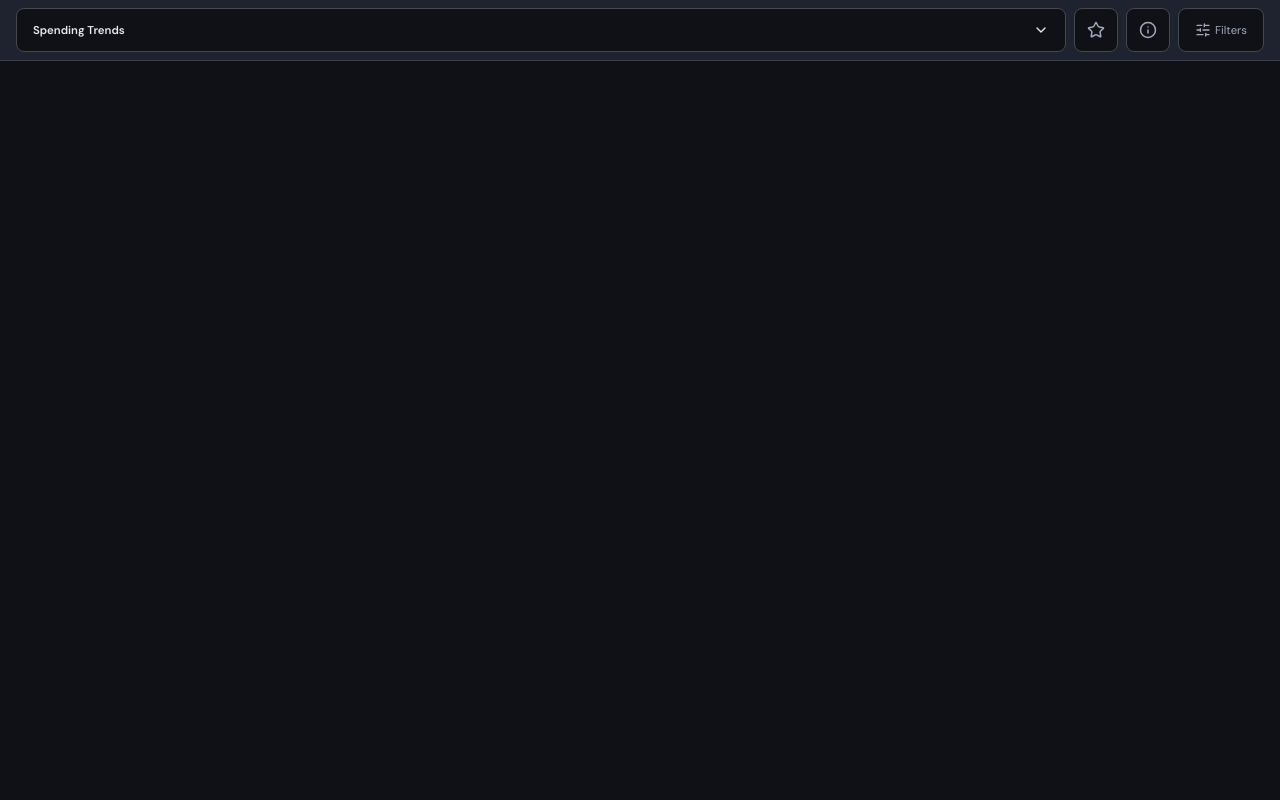
Scenario: ReportsMobileChrome › opens the reports overview beside the star, and picks a report from it
The image size is (1280, 800).
Click the button named "About these reports". click: {"x": 1148, "y": 30}
box: [1126,8,1170,52]
(page scrolled)
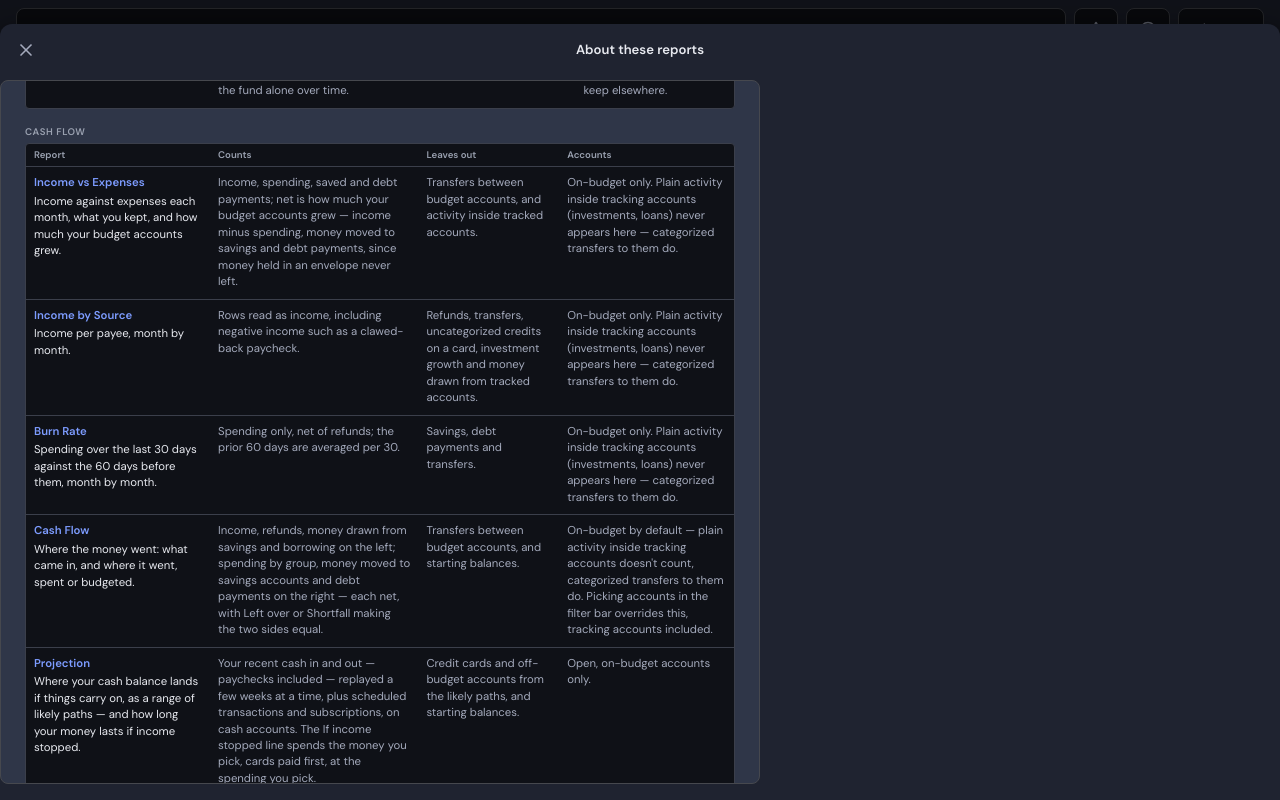
Now the heading "Cash Flow" is shown, box [25,125,86,138]
Click the button "Burn Rate". click: {"x": 60, "y": 432}
box: [34,424,87,440]
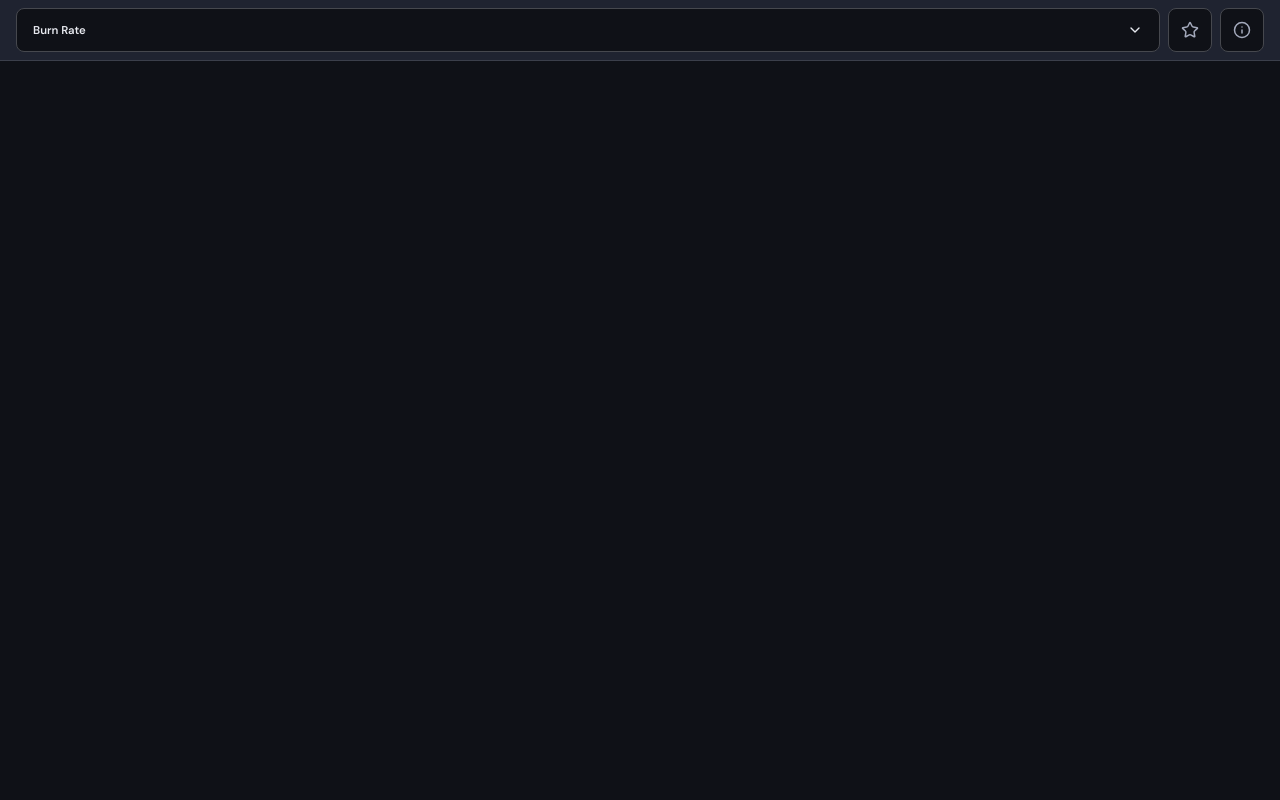
Now the text "About these reports" is gone
